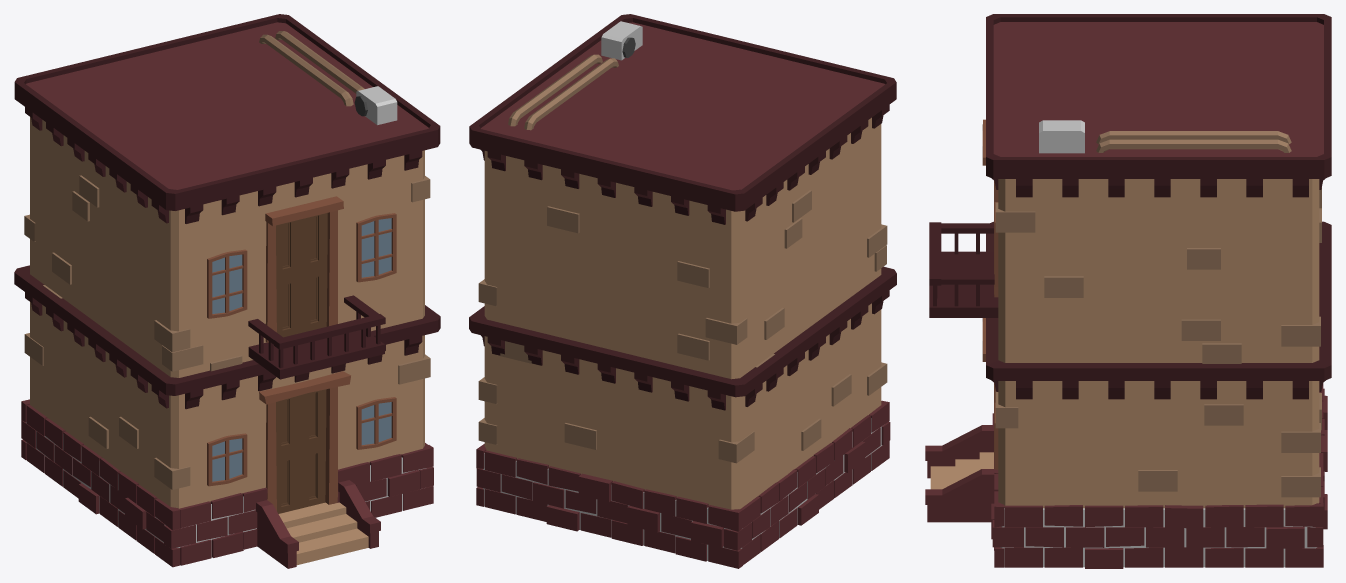
Rendered from LowPolyBuilding6.fbx.
The picture shows the model from 3 angles, left to right: view 1: azimuth 30°, elevation 25°; view 2: azimuth 150°, elevation 25°; view 3: azimuth 270°, elevation 25°; orthographic projection. The views are drawn at different scales.
Parts seen in each view (by area): view 1: 2Story_Balcony_Mat; view 2: 2Story_Balcony_Mat; view 3: 2Story_Balcony_Mat.
Part boxes in pixels (left/top/right/bottom): 2Story_Balcony_Mat: left=14, top=14, right=440, bottom=568; 2Story_Balcony_Mat: left=469, top=14, right=896, bottom=568; 2Story_Balcony_Mat: left=925, top=14, right=1331, bottom=568.
Size of the model in its own units: 216 by 294 by 253.
